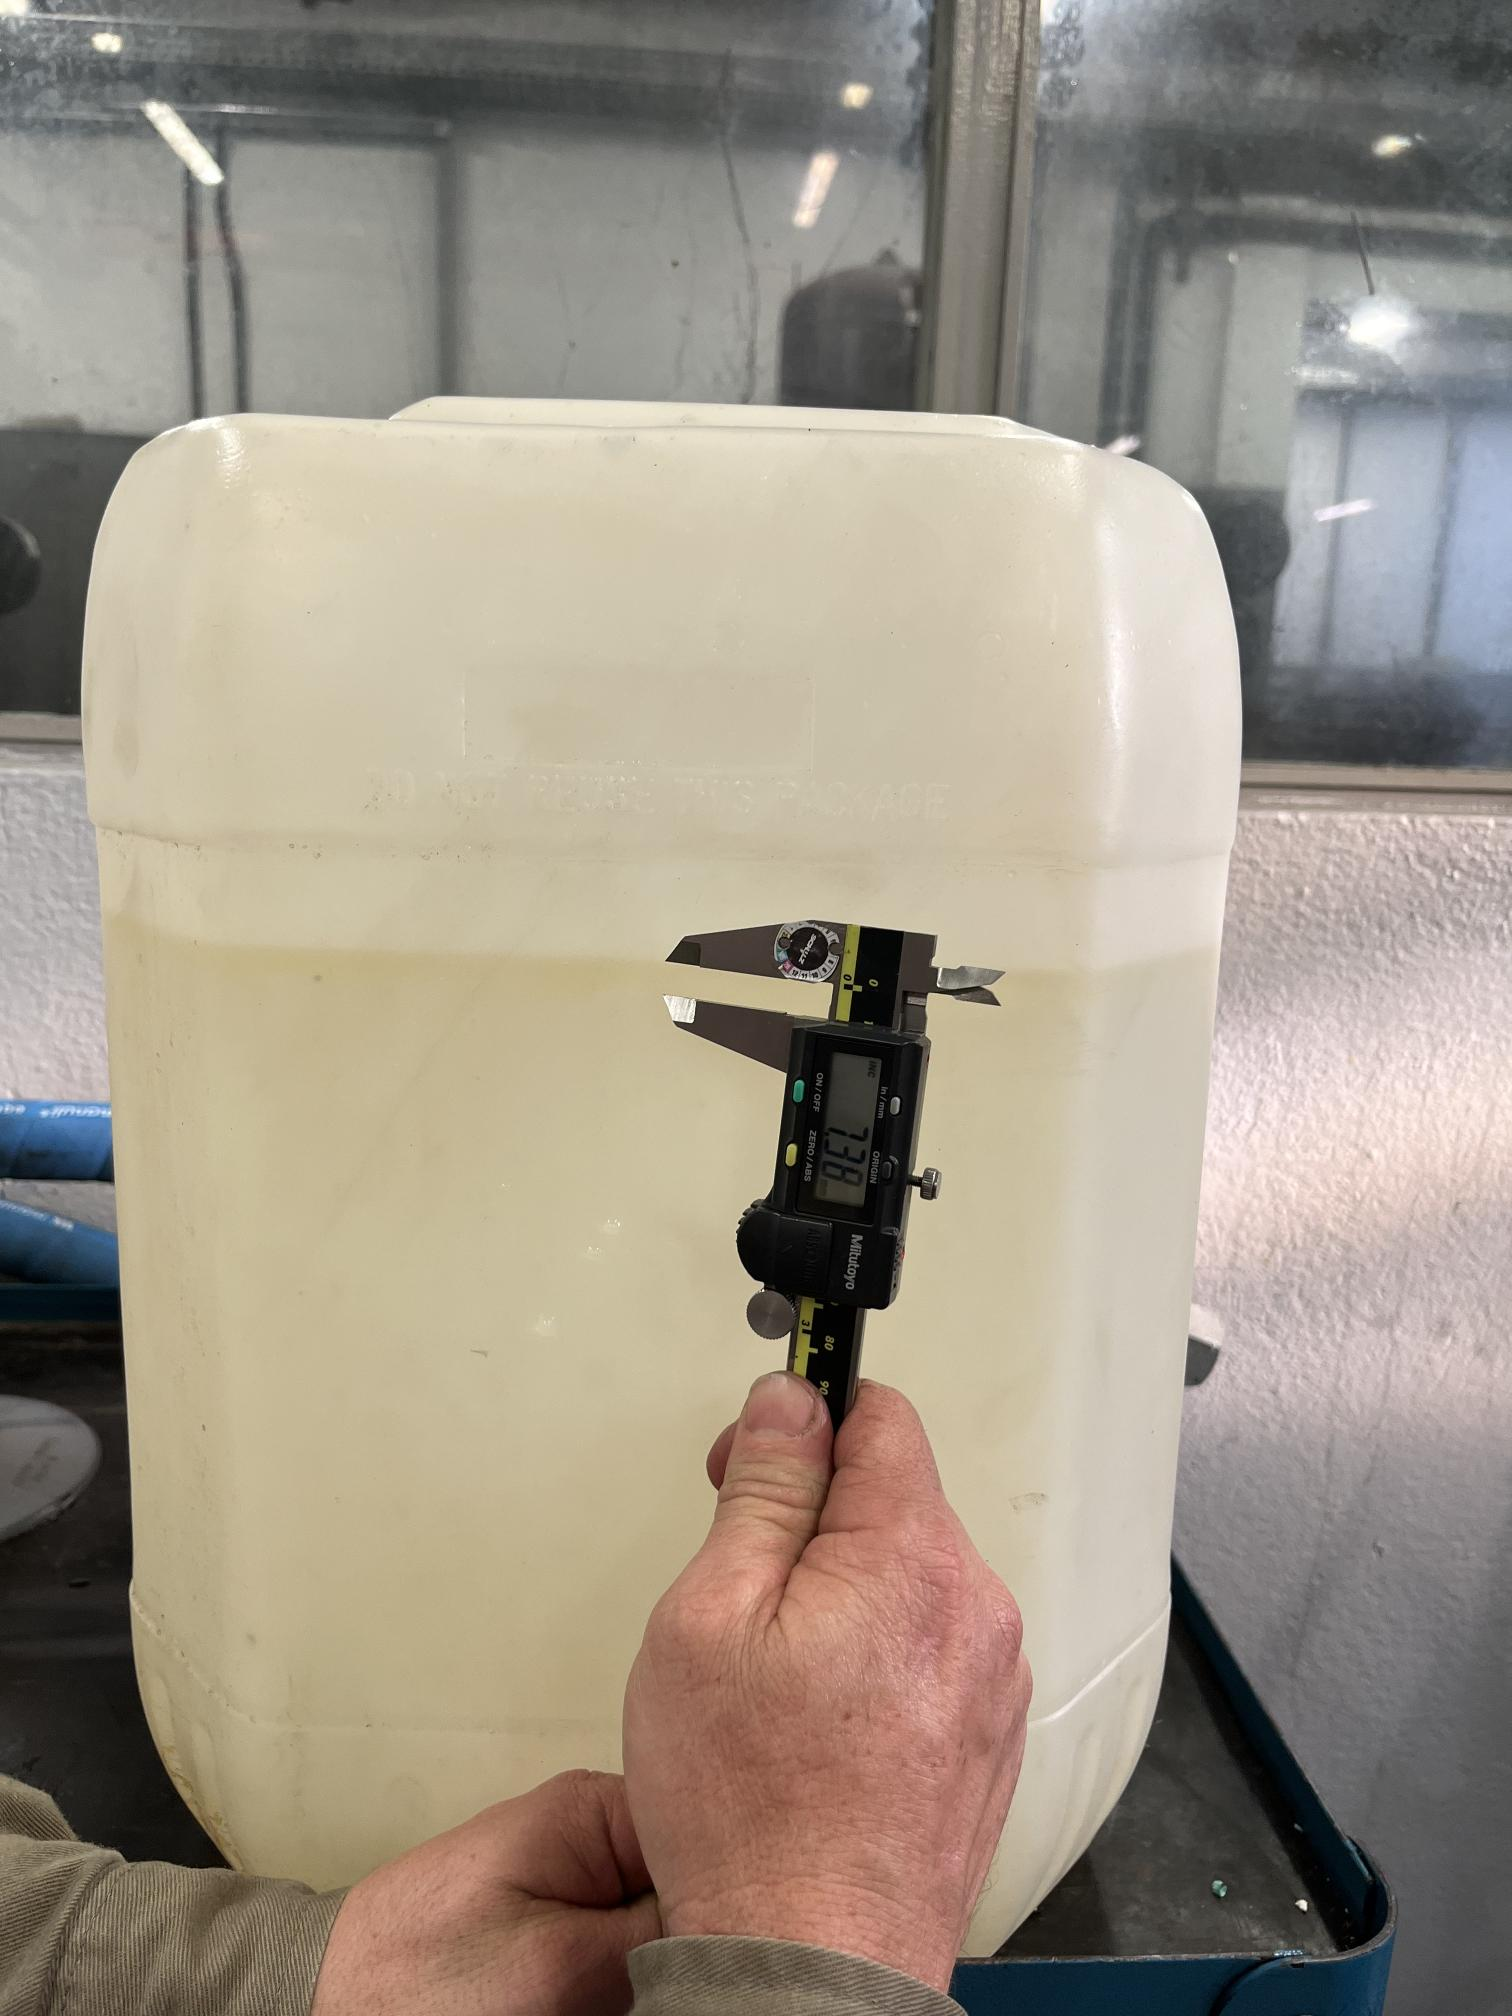Galao: (114, 340, 1285, 1945)
